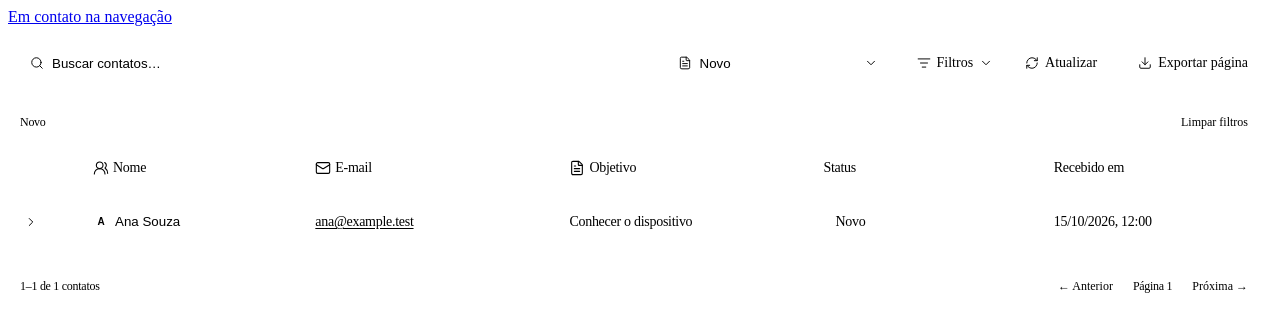
returns focus to search when clearing the active filters removes its button
expect the button with aria-label "Ver contato de Ana Souza" is shown: met, box [93,212,291,232]
Click the button "Limpar filtros" at (1214, 122), box [1169,108,1260,136]
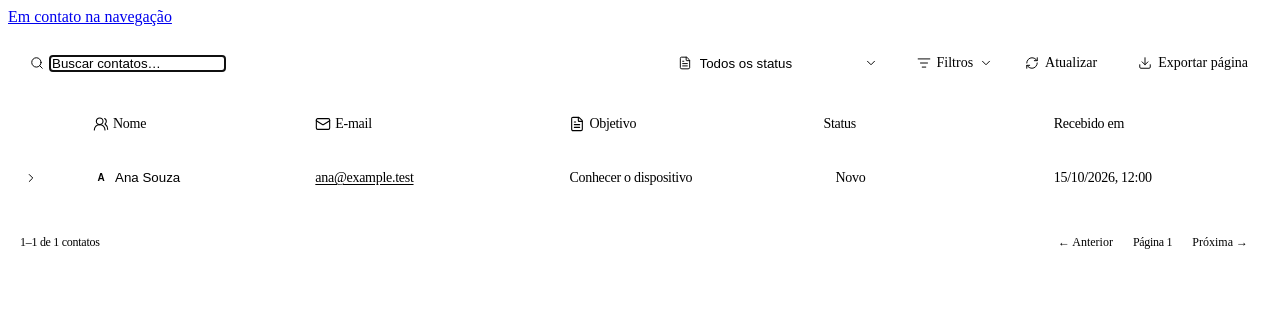
expect the button "Limpar filtros" is gone: met
